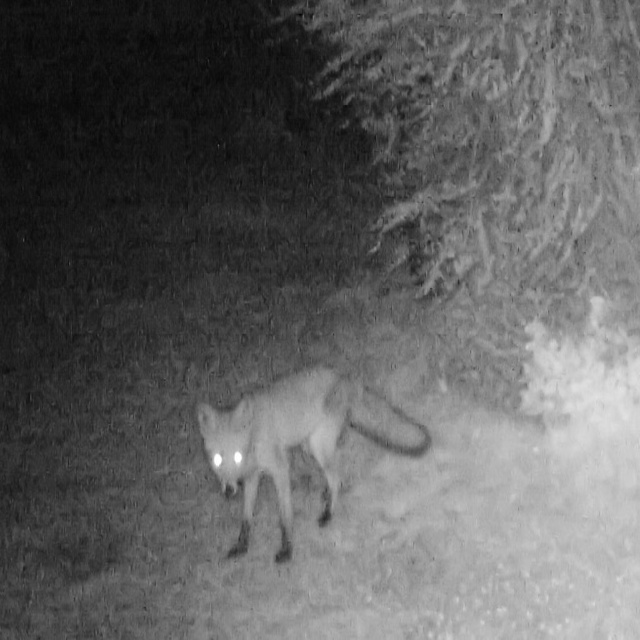Fox: (195, 360, 431, 566)
